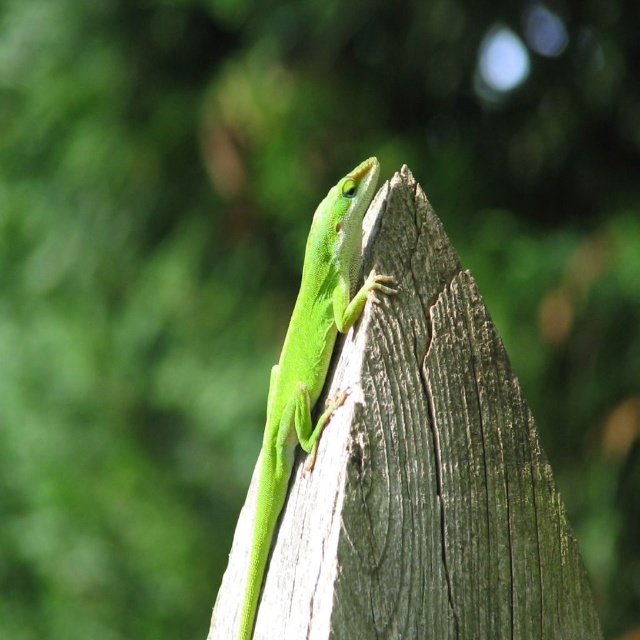Lizard: (237, 163, 411, 583)
